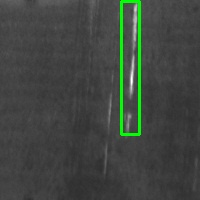scratches: (121, 1, 139, 134)
